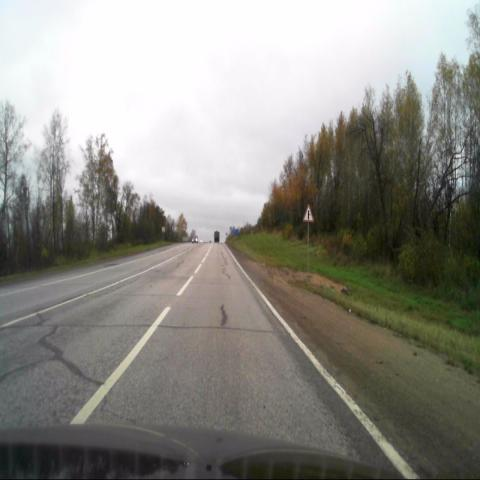2_3_2: (302, 203, 314, 223)
